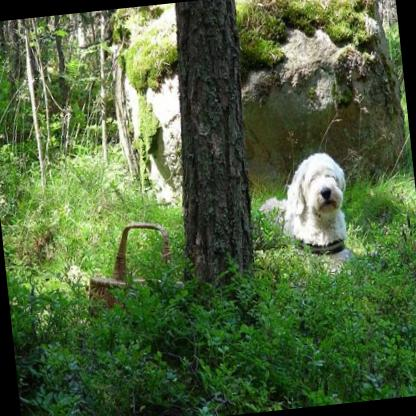Old_English_sheepdog: (250, 147, 358, 288)
